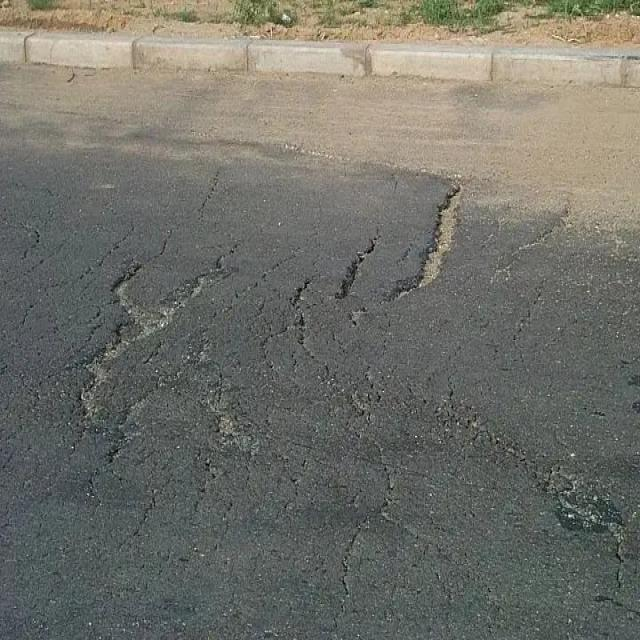Pothole: (82, 237, 204, 451), (389, 172, 463, 303)
